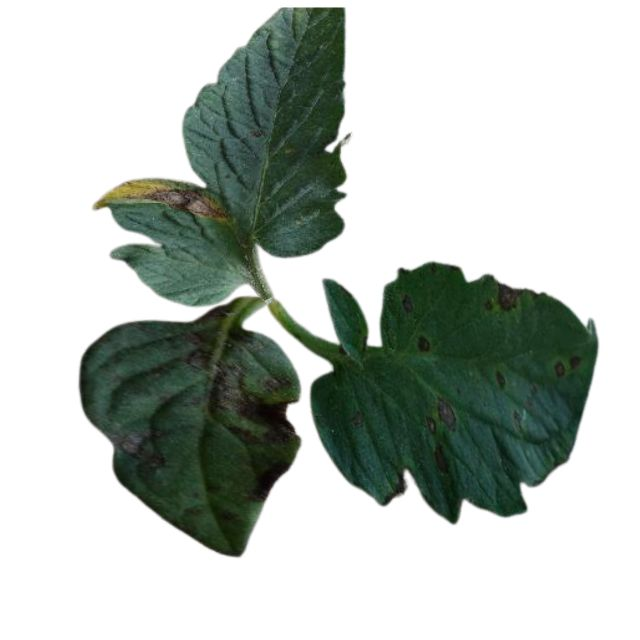Early_blight: (180, 328, 296, 445), (90, 177, 232, 223), (103, 426, 171, 473), (245, 460, 289, 501), (424, 396, 457, 436), (494, 278, 522, 313), (551, 352, 580, 378), (430, 441, 451, 476), (416, 330, 431, 354), (401, 295, 416, 315)
